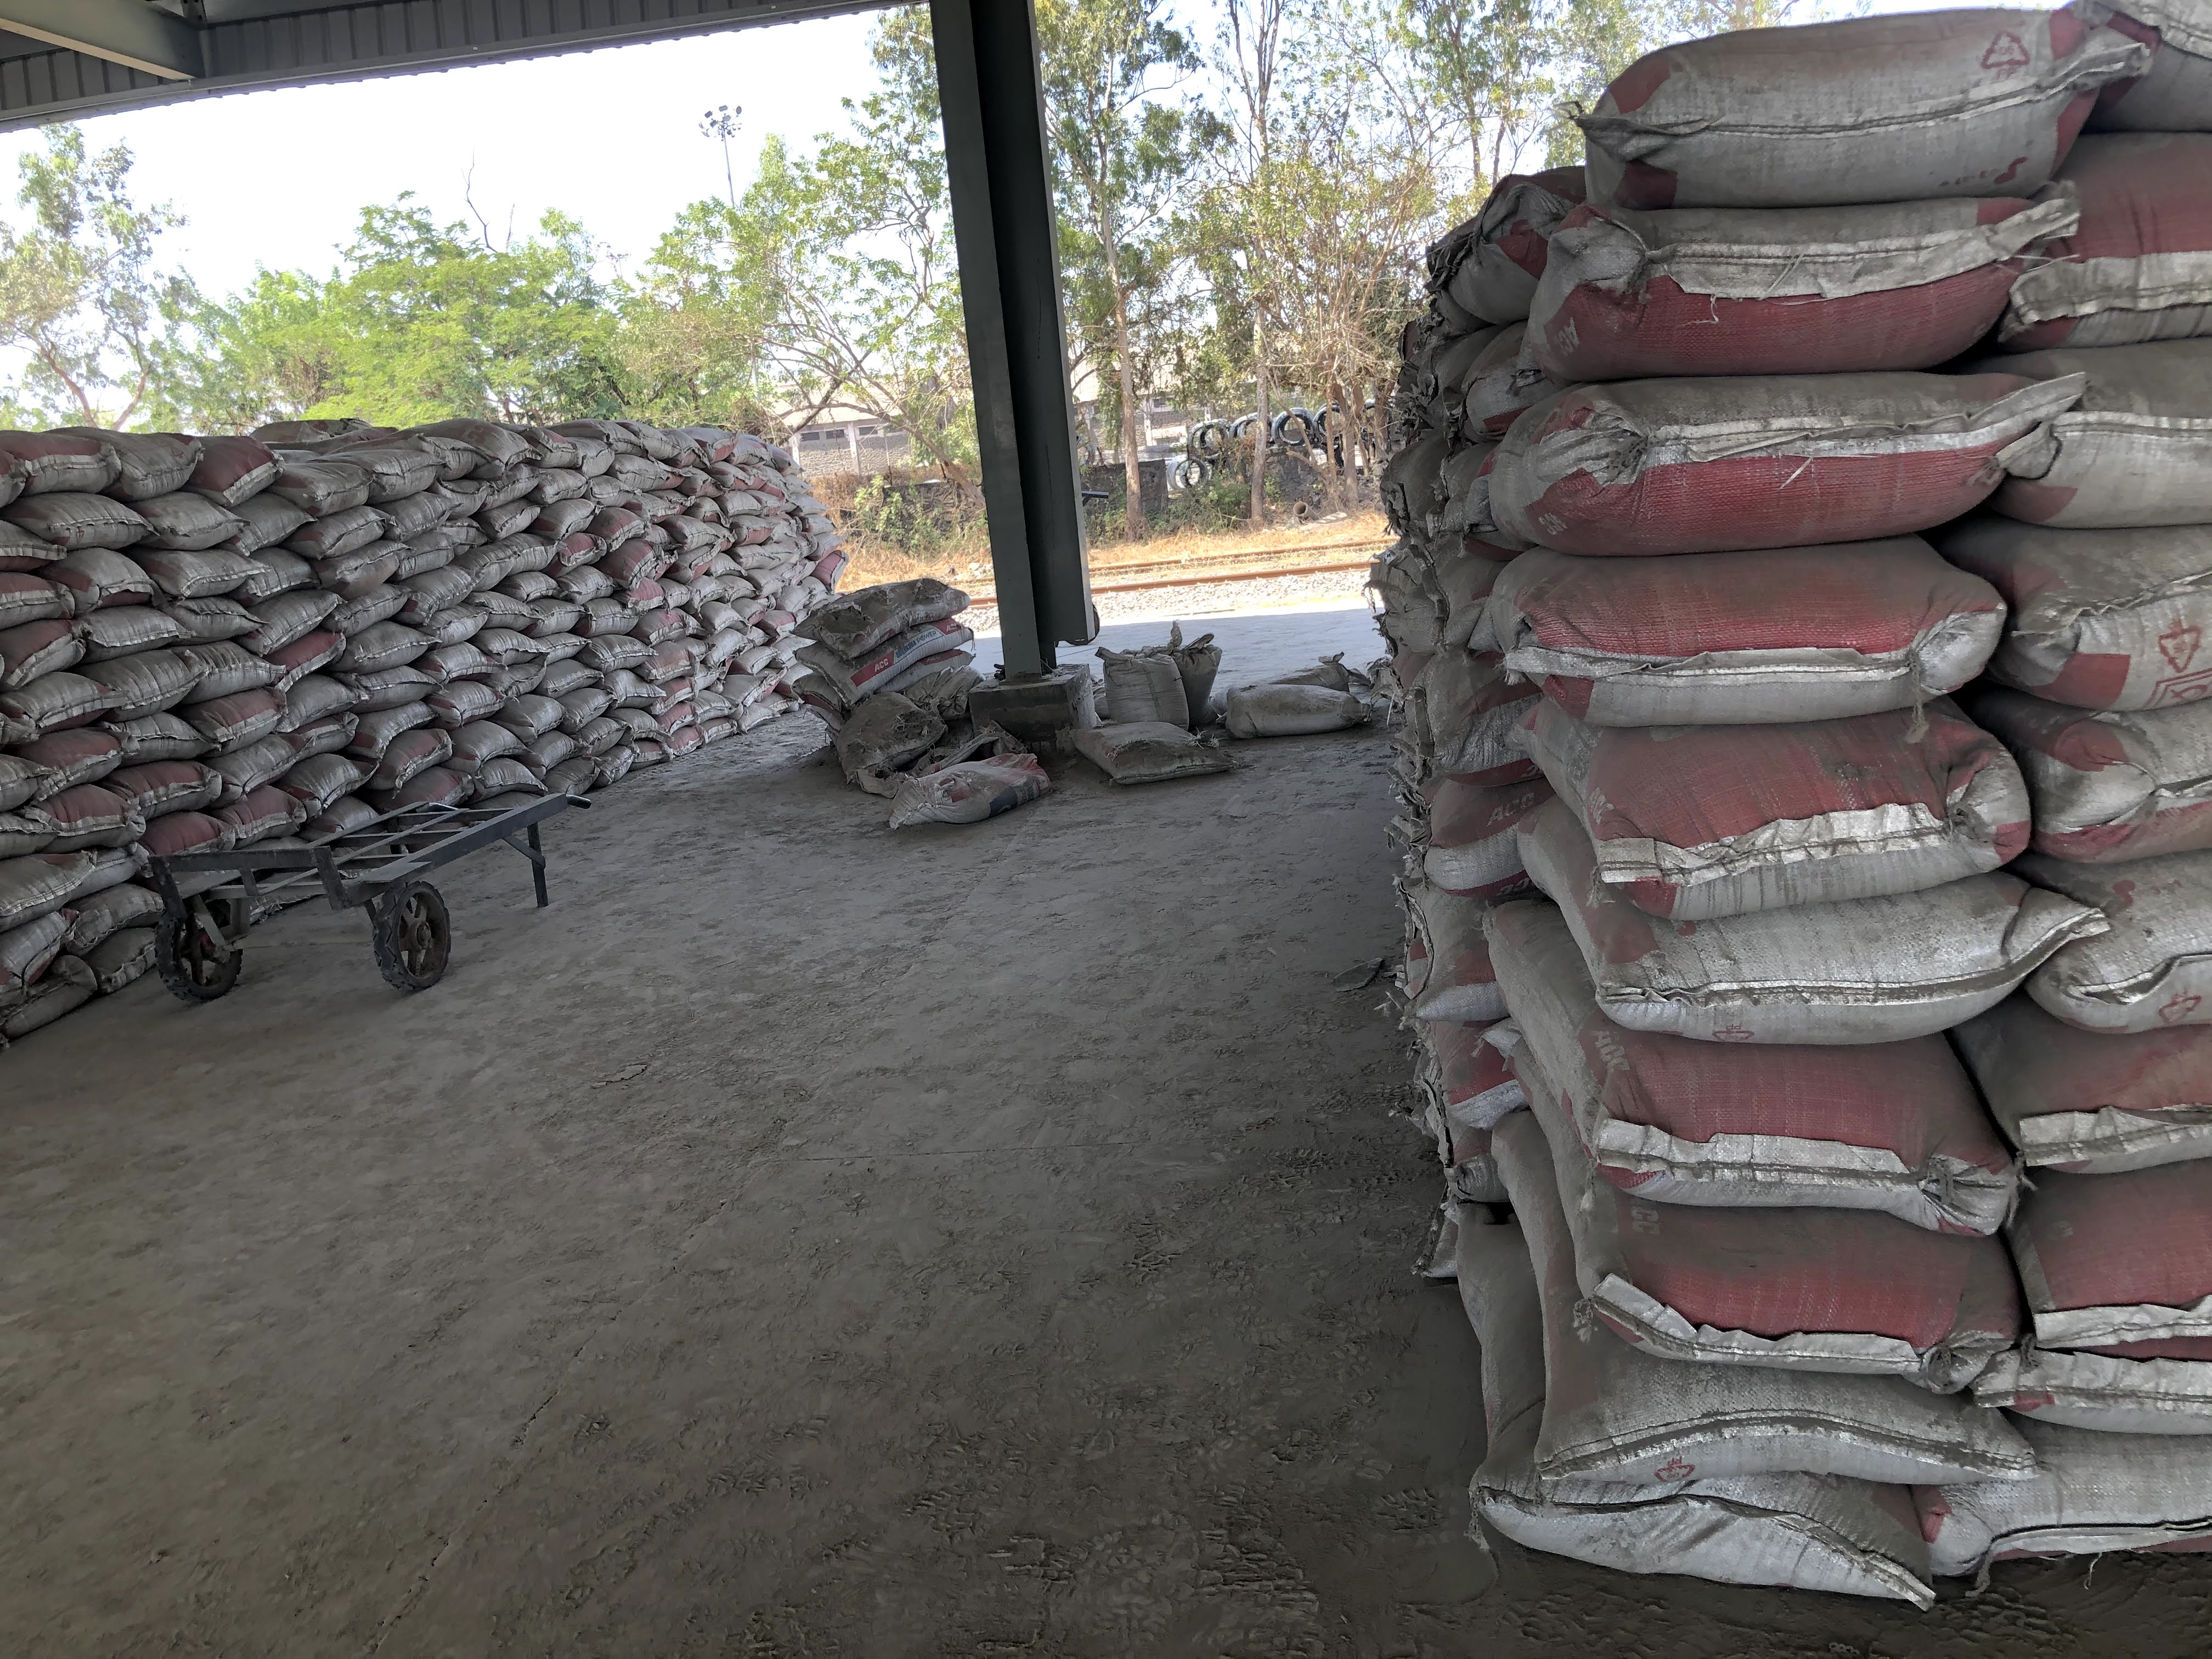cement bag: (1515, 509, 2029, 713), (1562, 33, 2102, 225), (1500, 359, 2024, 547), (1540, 713, 2029, 903), (1538, 169, 2024, 359), (1611, 1190, 2010, 1391), (1540, 903, 2048, 1056), (1573, 1464, 1935, 1643), (1611, 1056, 2048, 1190), (1573, 1391, 2010, 1464)
